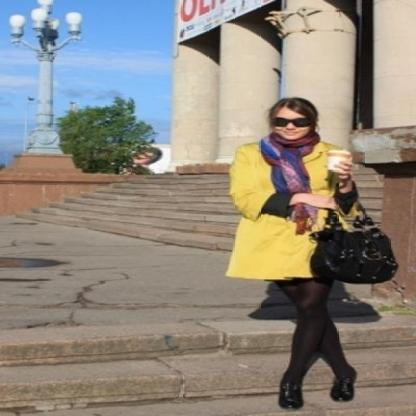bag: (310, 206, 397, 288)
jacket: (226, 140, 340, 279)
shirt: (258, 182, 358, 218)
shoe: (274, 374, 354, 409)
